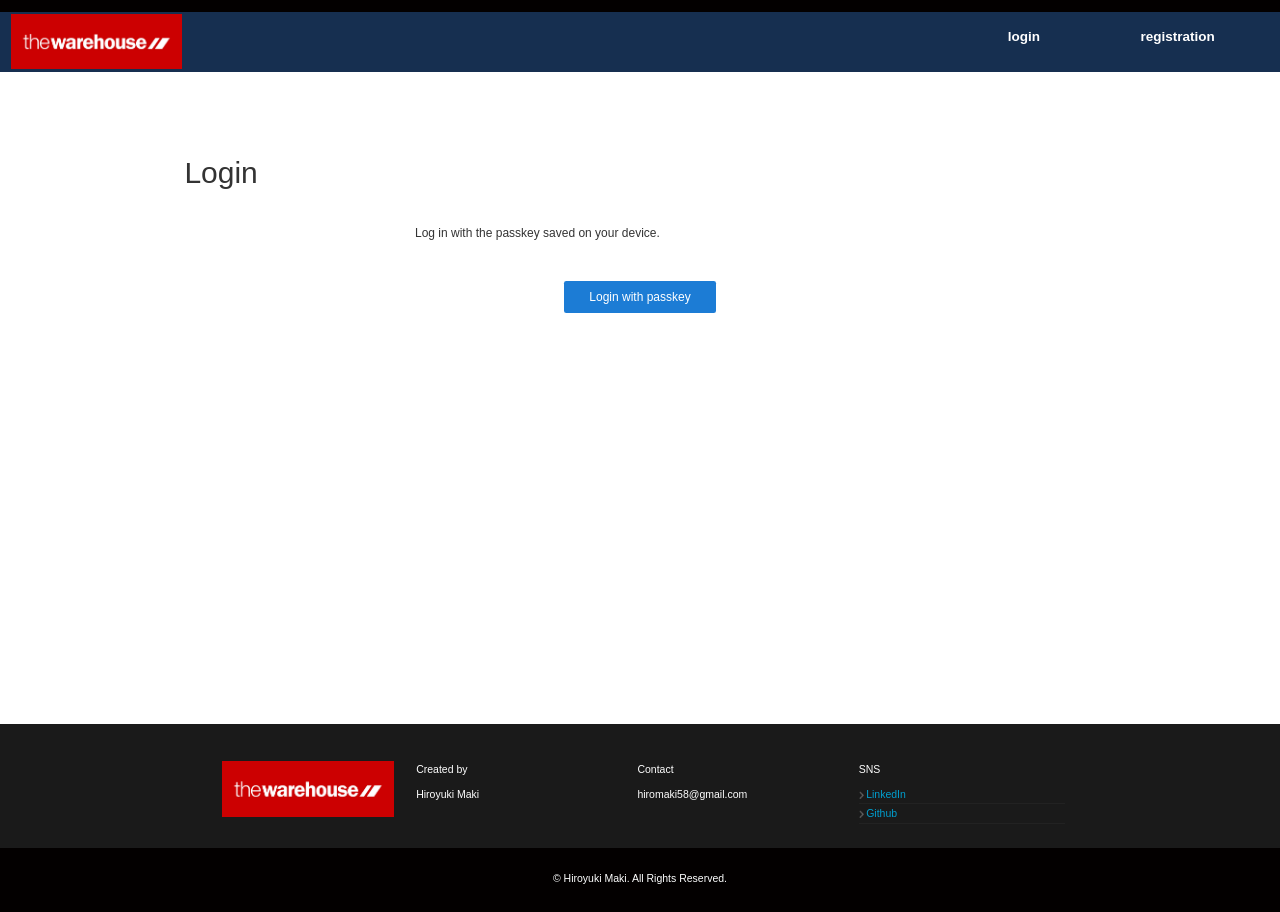
Scenario: LoginPage › stays on the page with a message when the result is unsupported
The image size is (1280, 912).
Click the button "Login with passkey" at (640, 297), box [564,281,716,313]
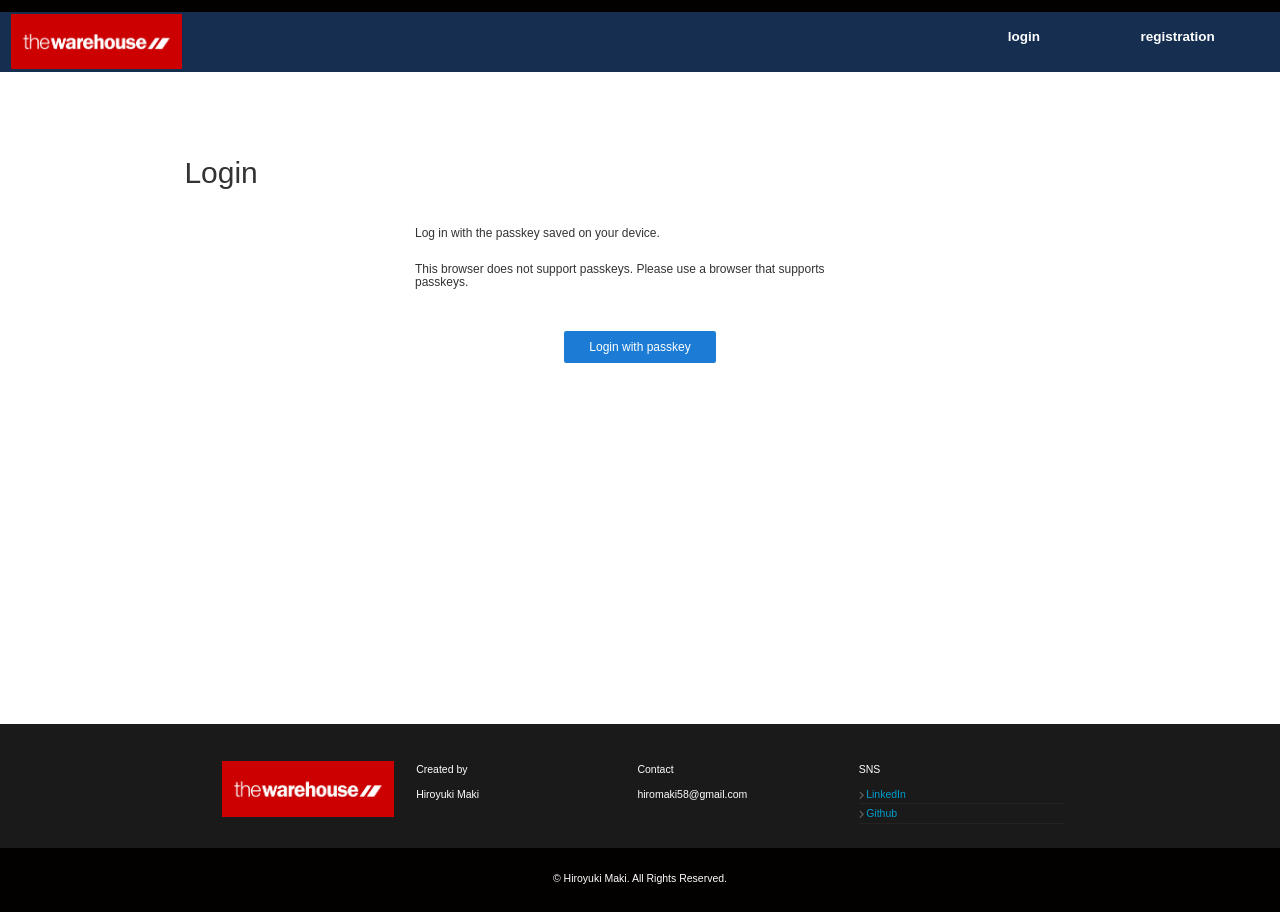
Check: the button "Login with passkey" is enabled, box [564,331,716,363]
Check: the message shows "does not support passkeys", box [415,262,824,289]
